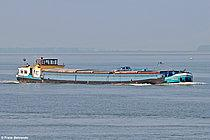Ship: (12, 52, 171, 90)
